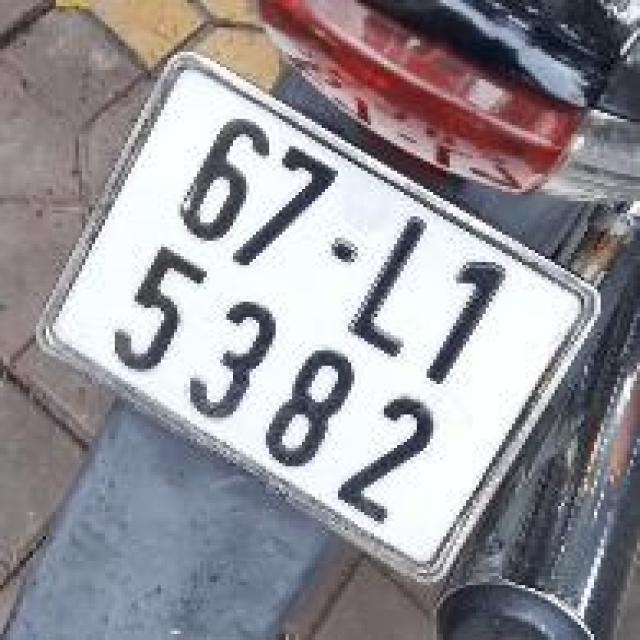1: (406, 237, 533, 402)
2: (321, 373, 469, 538)
3: (172, 285, 294, 434)
5: (95, 233, 220, 393)
6: (161, 99, 288, 256)
7: (222, 136, 352, 283)
8: (247, 332, 377, 486)
L: (340, 199, 475, 371)
